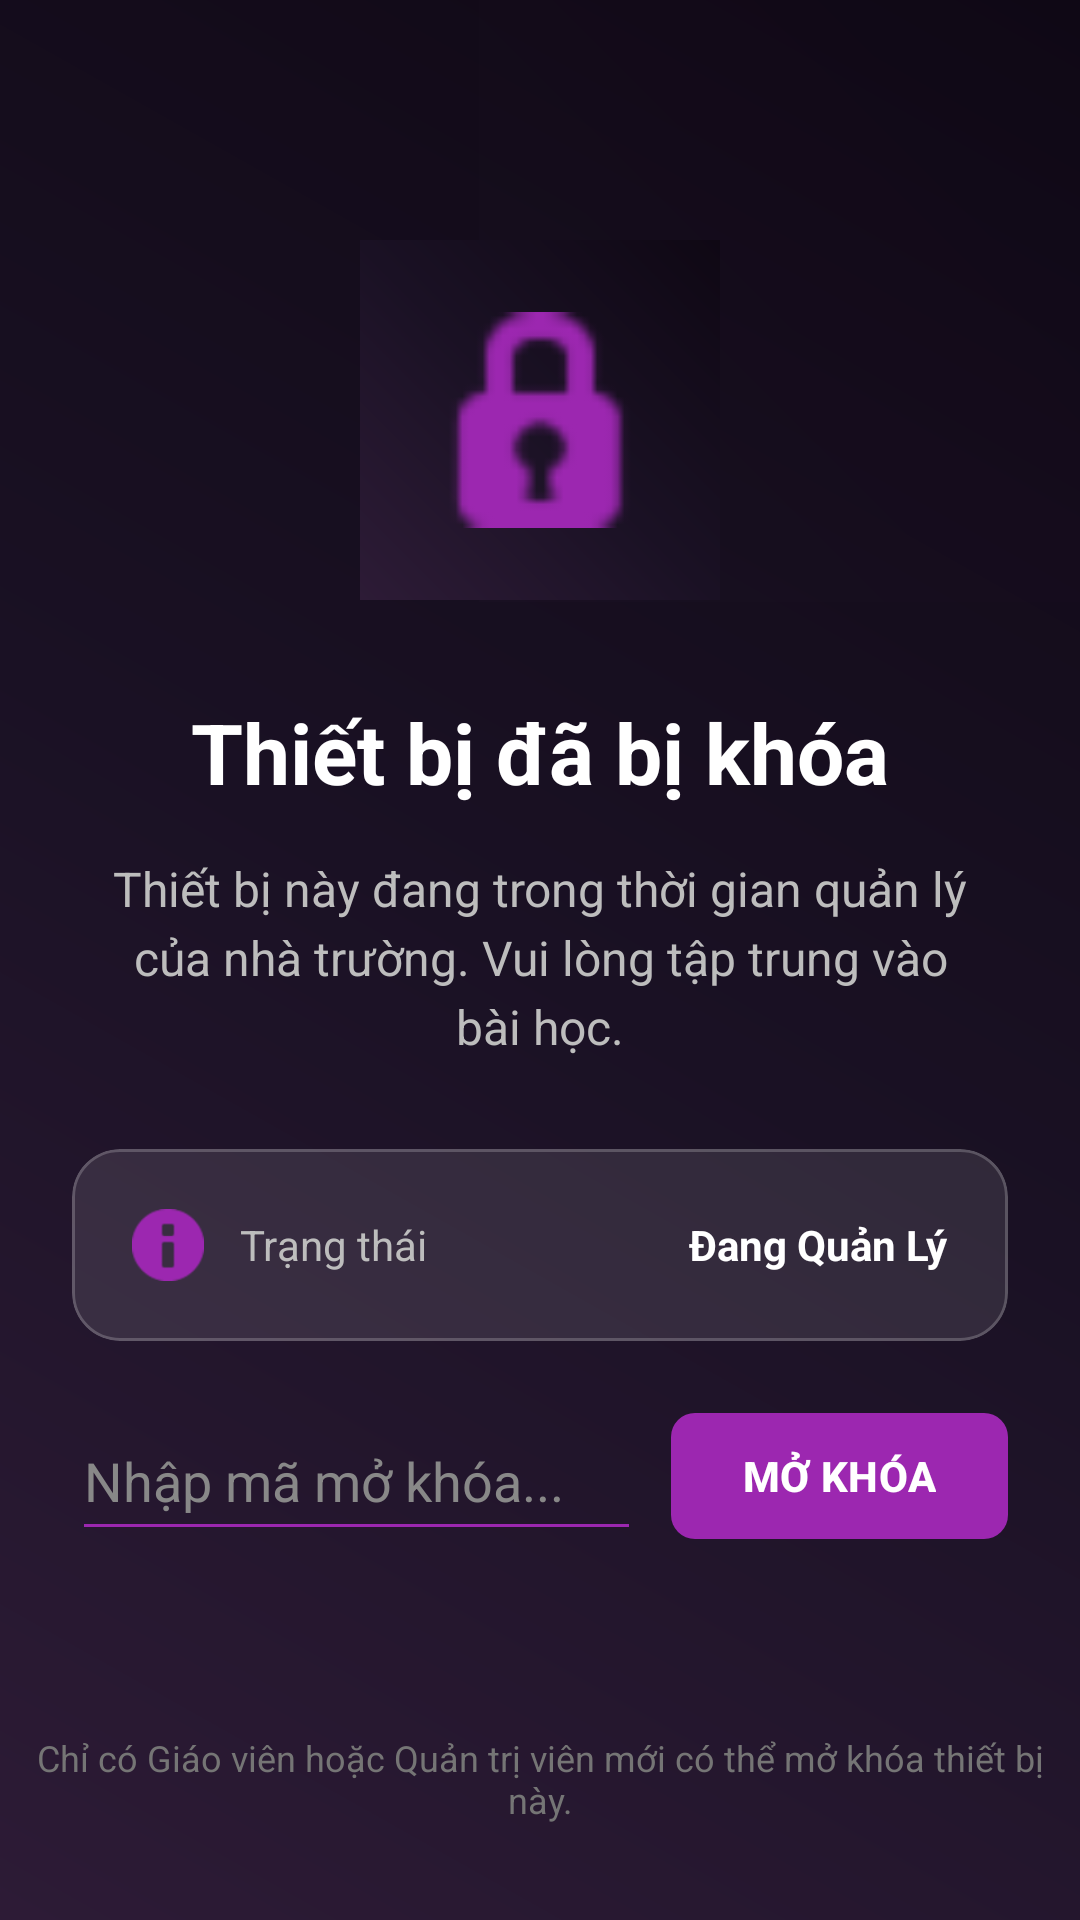

Icons on this 1080w x 1920h Android screen, each with its box as region(x1, y1, x2, y2):
info: region(132, 1209, 204, 1281)
secure: region(360, 312, 624, 600)
